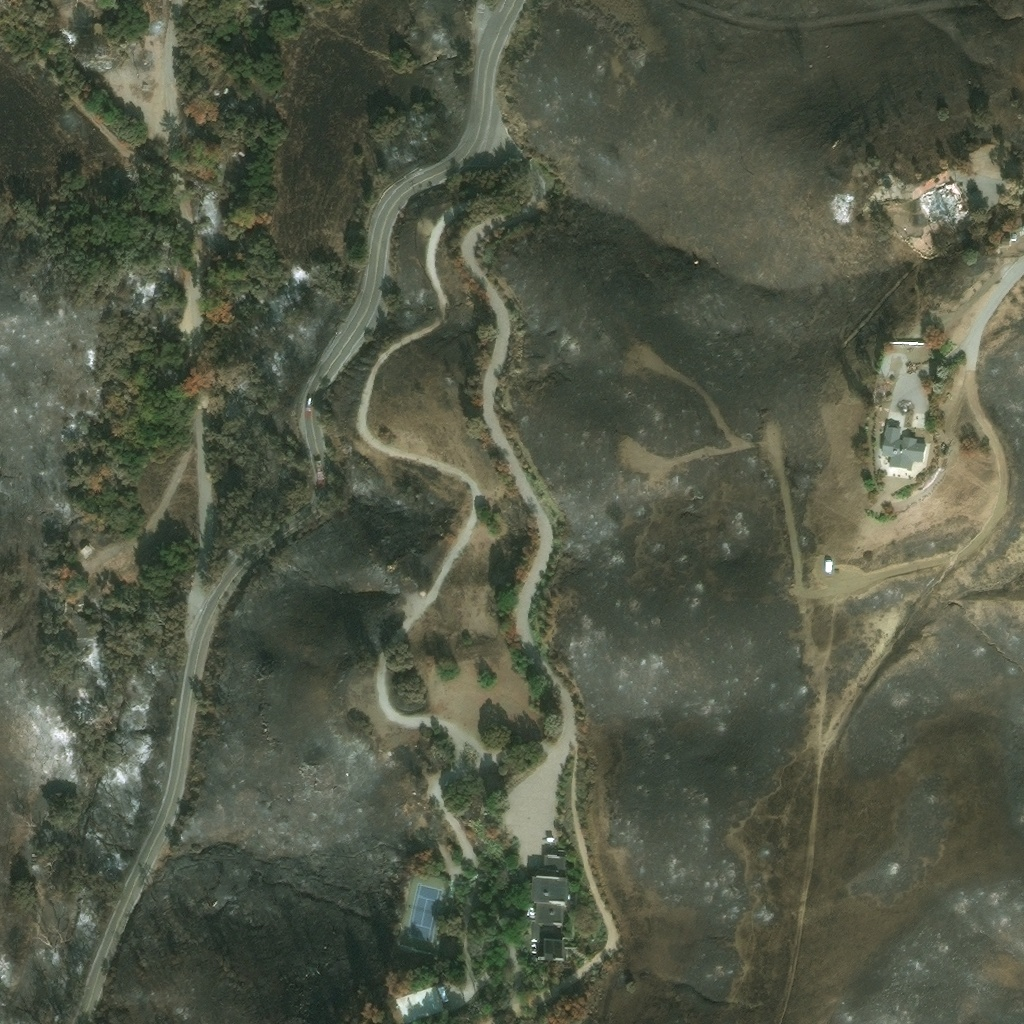0 no-damage: (530, 853, 569, 961), (395, 983, 451, 1023), (879, 422, 924, 471), (823, 560, 832, 572), (1000, 235, 1009, 245), (1011, 233, 1017, 241)
3 destroyed: (922, 178, 975, 226), (828, 189, 857, 221)
